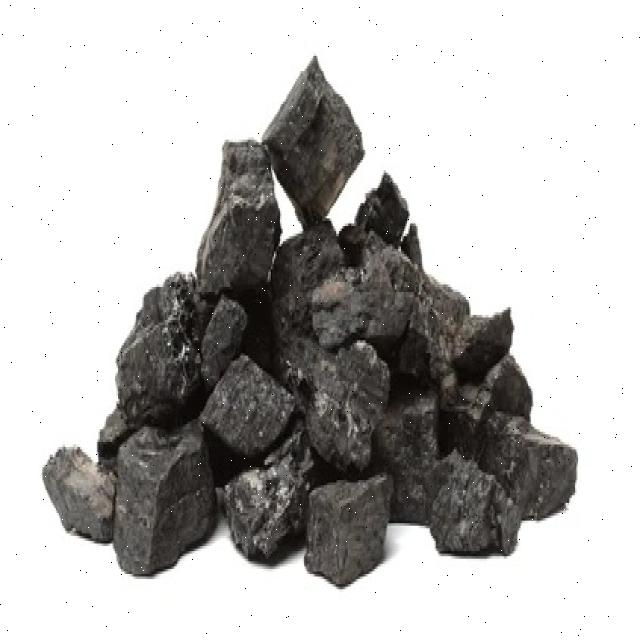Sedimentary: (47, 48, 578, 579)
